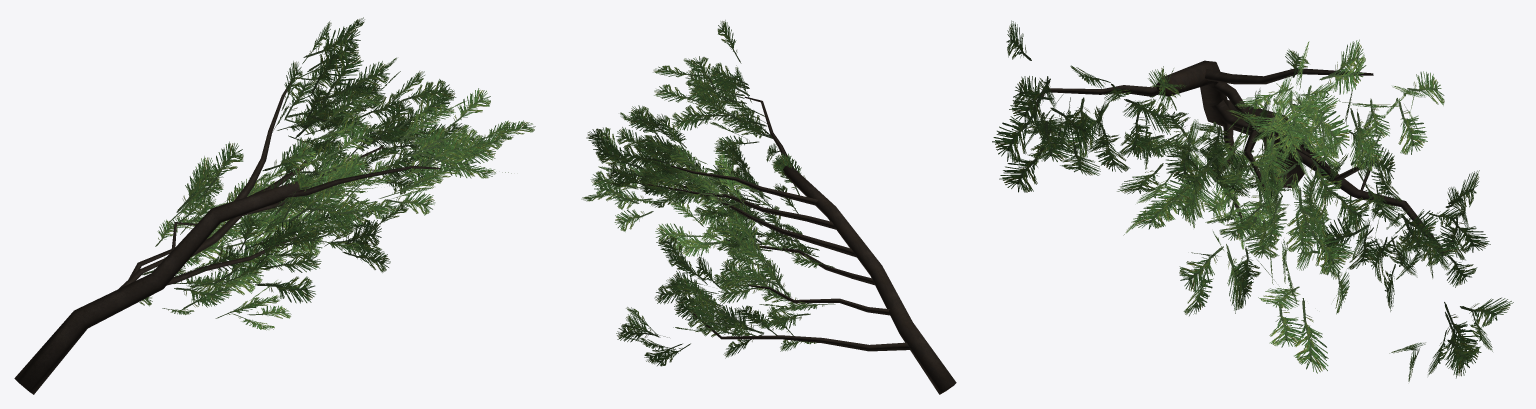
The model's file is krummholz_pine_v02_LOD2.fbx.
3 renders of one model, left to right at view 1: azimuth 30°, elevation 25°; view 2: azimuth 150°, elevation 25°; view 3: azimuth 270°, elevation 25°, orthographic. The views are drawn at different scales.
Parts seen in each view (by area): view 1: krummholz_pine_v02_LOD2; view 2: krummholz_pine_v02_LOD2; view 3: krummholz_pine_v02_LOD2.
Boxes of the visible parts, x1,y1,x2,y2 form: krummholz_pine_v02_LOD2: (14, 17, 535, 394); krummholz_pine_v02_LOD2: (581, 20, 956, 394); krummholz_pine_v02_LOD2: (992, 20, 1513, 381).
Size of the model in its own units: 396 by 289 by 263.
2 materials, 2 textured.
